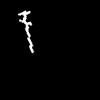double_crochet: (18, 11, 33, 52)
